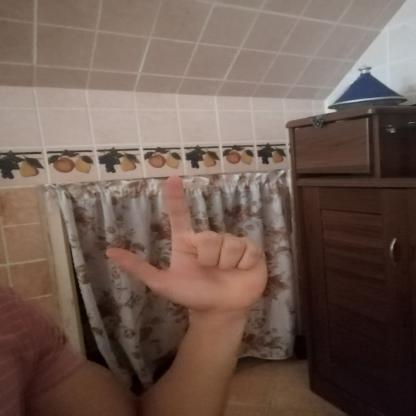LAAM: (88, 166, 280, 318)
